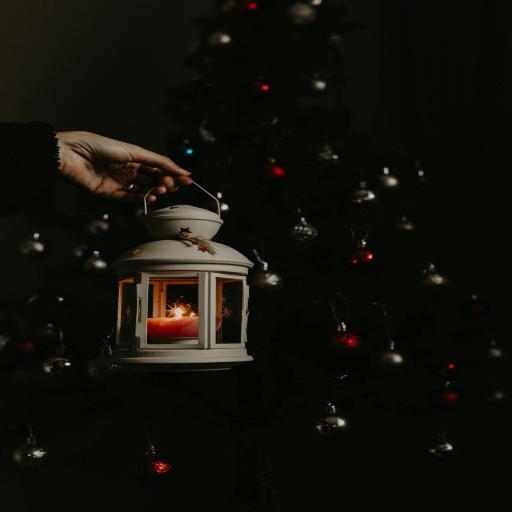candlelight: (164, 296, 195, 334)
